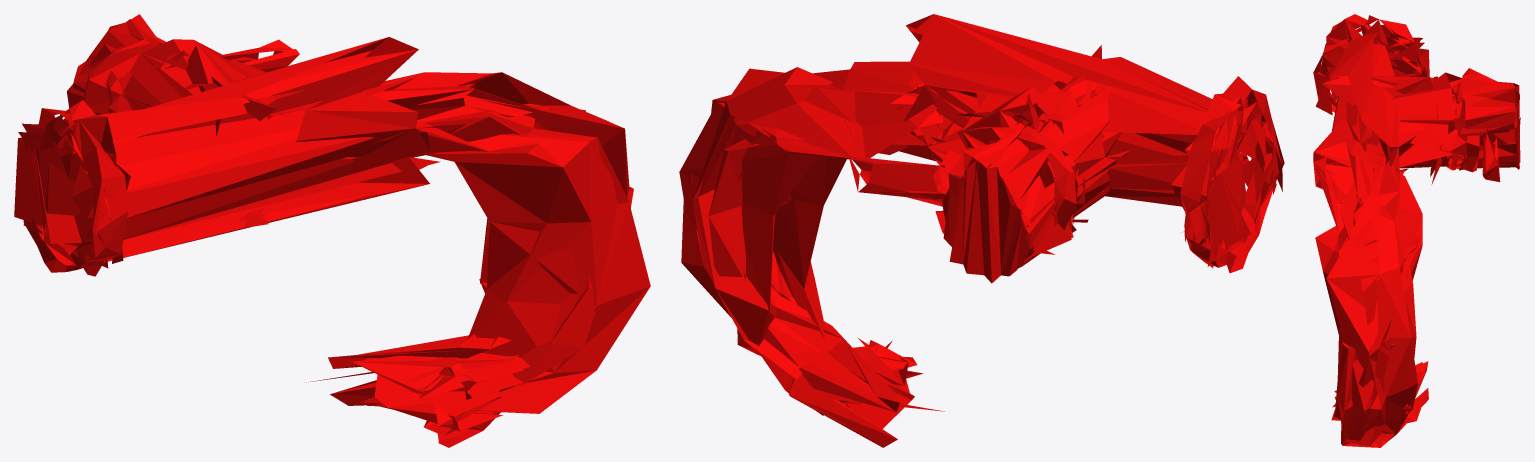
3 views of the same model, side by side, from view 1: azimuth 30°, elevation 25°; view 2: azimuth 150°, elevation 25°; view 3: azimuth 270°, elevation 25° (orthographic). The views are drawn at different scales.
Parts seen in each view (by area): view 1: Renderer Node; view 2: Renderer Node; view 3: Renderer Node.
Part boxes in pixels (x1,y1,x2,y2): Renderer Node: [14, 14, 650, 447]; Renderer Node: [679, 14, 1284, 447]; Renderer Node: [1313, 14, 1520, 447].
Size of the model in its own units: 0.7535 by 0.5207 by 0.335.
1 material, 1 textured.
